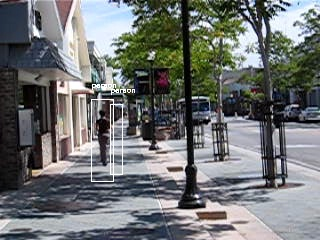person: (94, 110, 113, 167), (93, 110, 112, 167), (95, 110, 114, 167), (94, 109, 113, 166), (94, 111, 113, 168)
target_negative: (155, 135, 284, 172), (16, 131, 88, 196), (44, 51, 194, 80), (45, 43, 120, 77), (89, 3, 196, 18), (80, 174, 111, 217)
